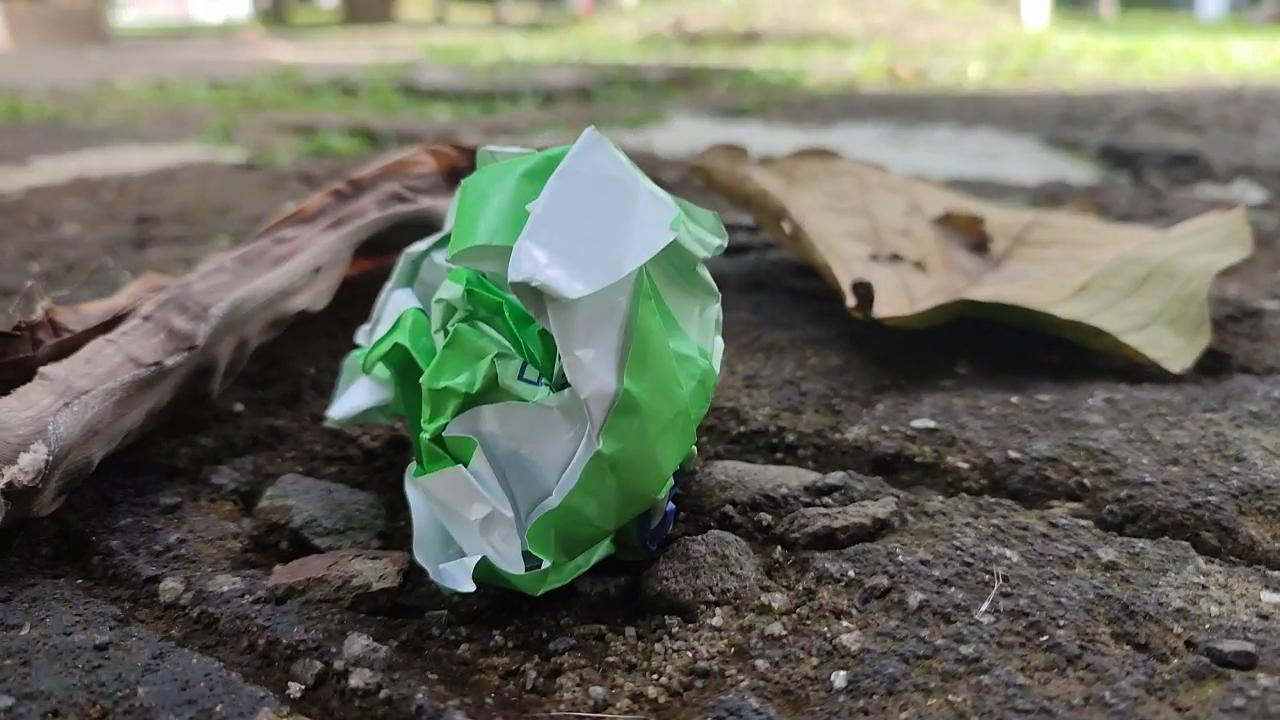Paper: (325, 112, 750, 607)
